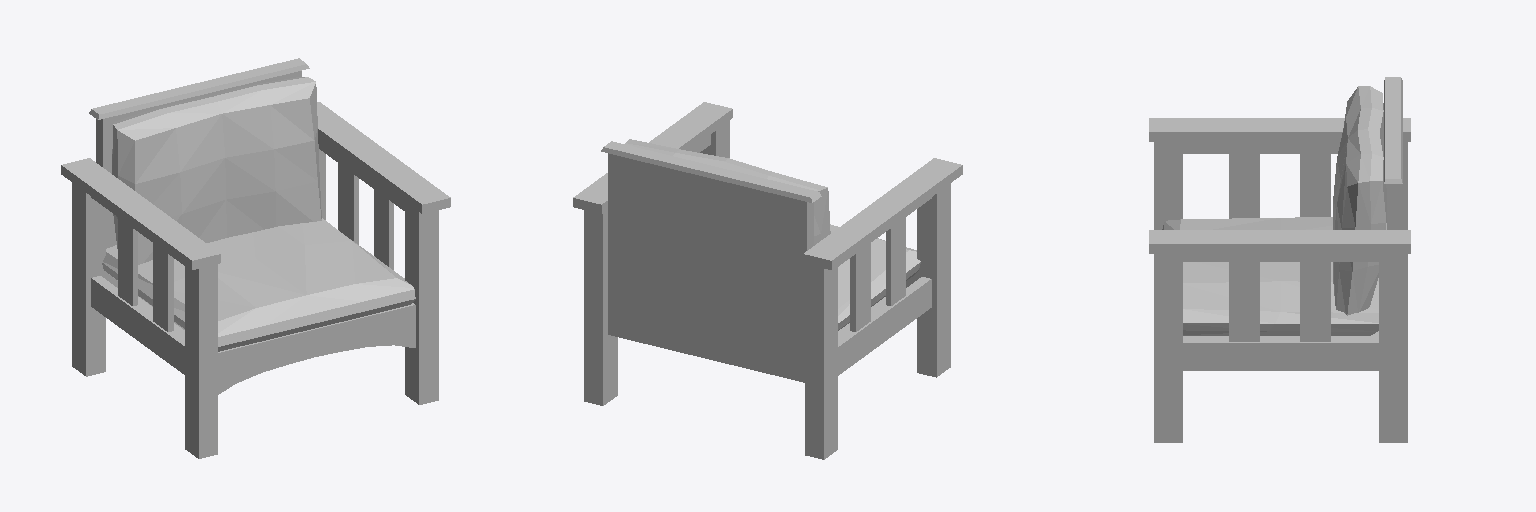
The model's file is product_1.obj.
The picture shows the model from 3 angles: view 1: azimuth 30°, elevation 25°; view 2: azimuth 150°, elevation 25°; view 3: azimuth 270°, elevation 25°; orthographic projection.
Bounding box in the file's own units: 0.0377 × 0.0356 × 0.0331.